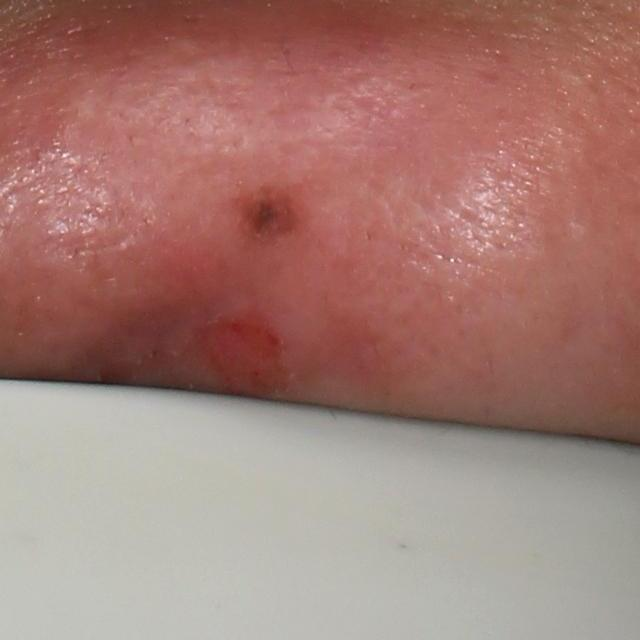nevus: (231, 185, 305, 246)
